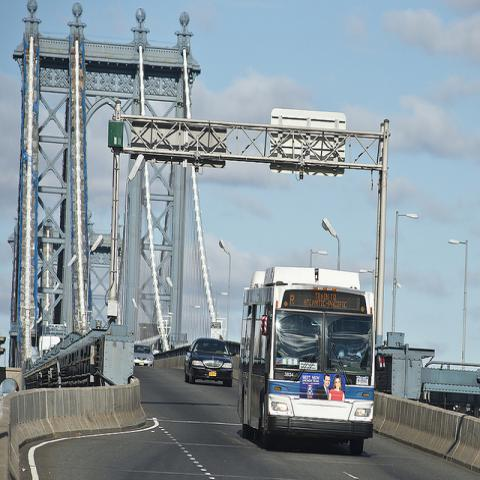bus: (238, 265, 387, 459)
car: (184, 340, 233, 387), (134, 343, 154, 366)
